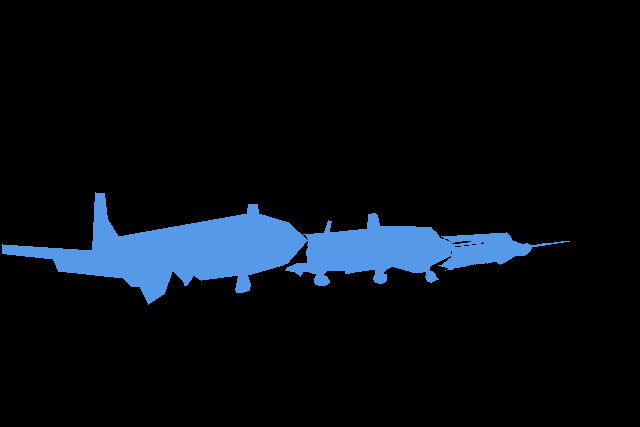Airplane: (2, 192, 307, 305), (285, 213, 482, 286), (438, 232, 569, 271)
